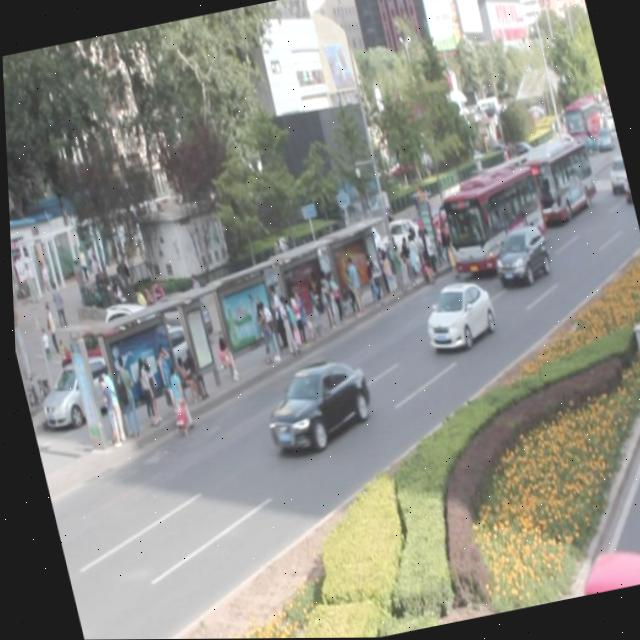car: (251, 351, 376, 459), (412, 276, 496, 356), (484, 224, 552, 290)
van: (427, 163, 548, 284), (512, 134, 599, 230)
